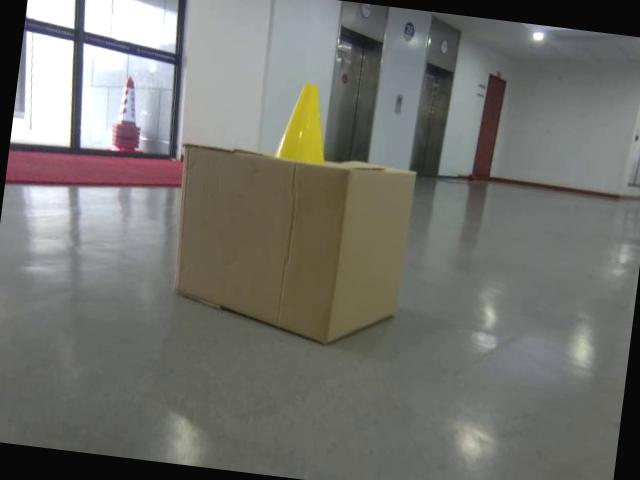yellow_barrel: (276, 81, 335, 164)
